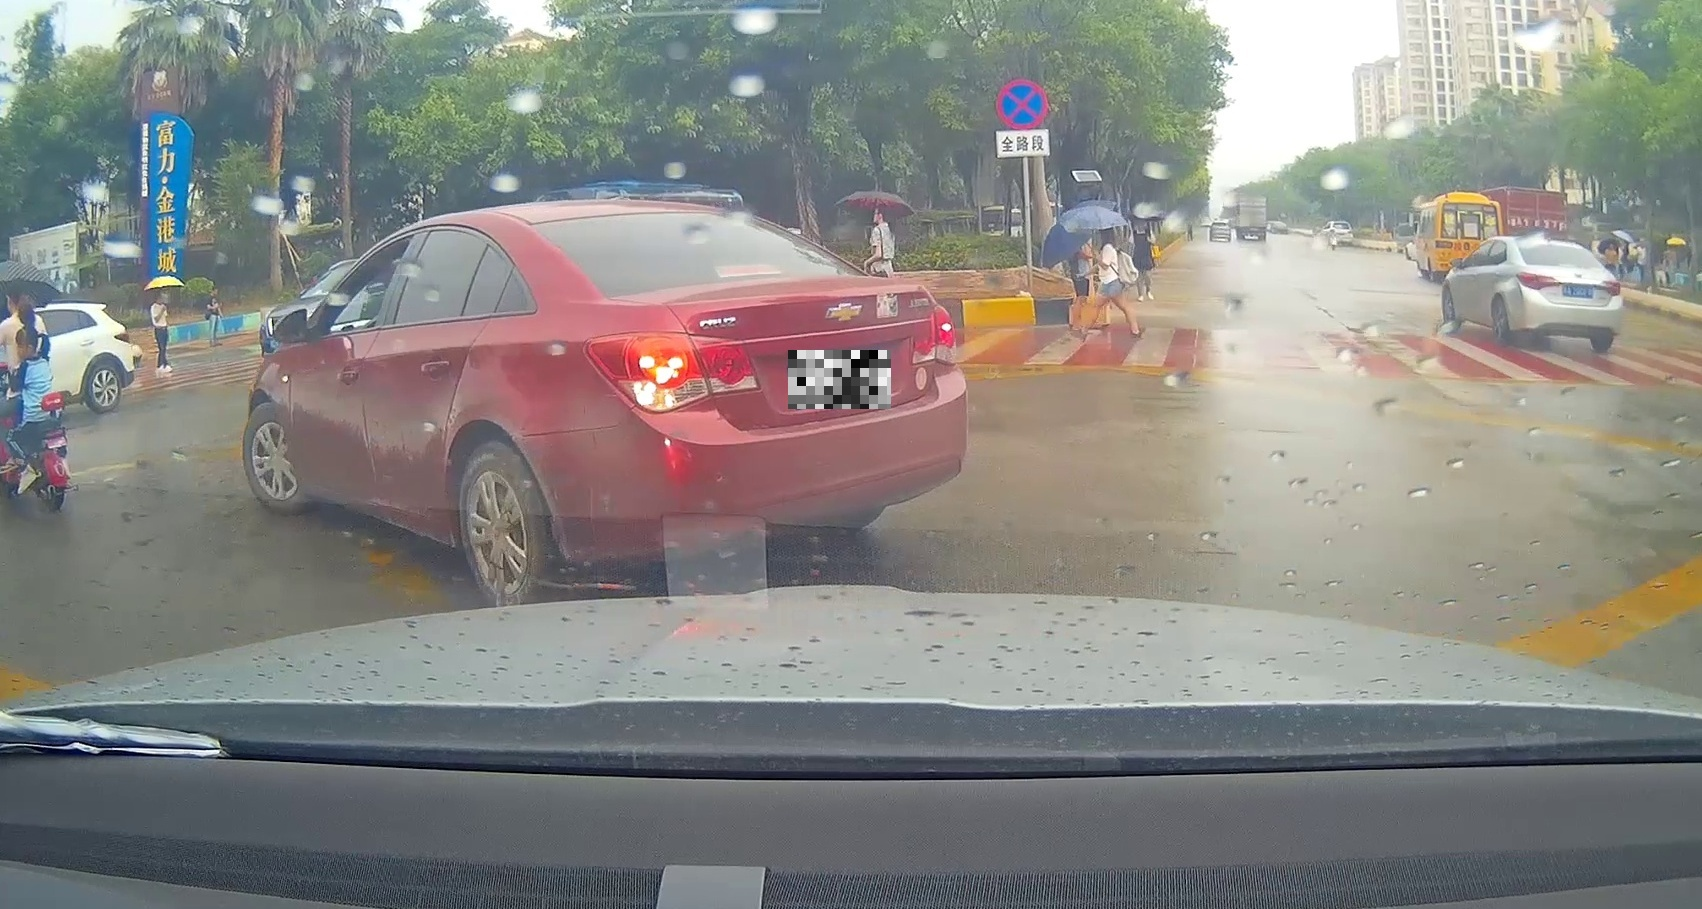L_light: (582, 331, 759, 414), (1515, 271, 1560, 291)
R_light: (911, 305, 959, 366), (1597, 279, 1621, 296)
T_light: (713, 263, 783, 278), (1558, 263, 1578, 267)
day-left: (516, 197, 969, 602)
day-no: (1510, 234, 1623, 350)
plate_1: (788, 350, 892, 409)
